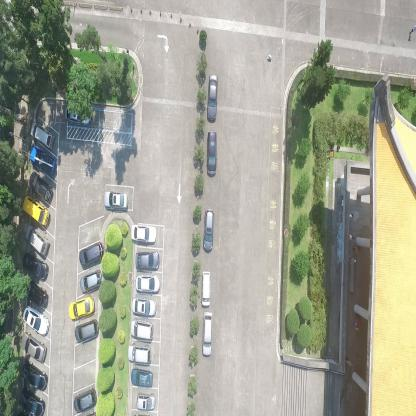car: (21, 195, 51, 228), (19, 332, 47, 364), (22, 304, 50, 336), (24, 224, 50, 258), (28, 146, 56, 175), (22, 252, 49, 282), (22, 361, 48, 391), (18, 388, 46, 415), (79, 238, 104, 268), (28, 172, 53, 202), (23, 278, 48, 307), (28, 122, 55, 148), (73, 384, 97, 413), (68, 295, 94, 320), (64, 102, 91, 126), (207, 72, 219, 123), (74, 317, 98, 342), (131, 221, 157, 244), (202, 207, 215, 252), (80, 267, 102, 293), (102, 189, 129, 210), (202, 311, 214, 357), (206, 128, 217, 176), (126, 343, 152, 363), (130, 319, 153, 341), (134, 250, 160, 269), (132, 298, 158, 317), (130, 367, 153, 388), (135, 274, 160, 293), (200, 270, 212, 308), (135, 392, 156, 410)
